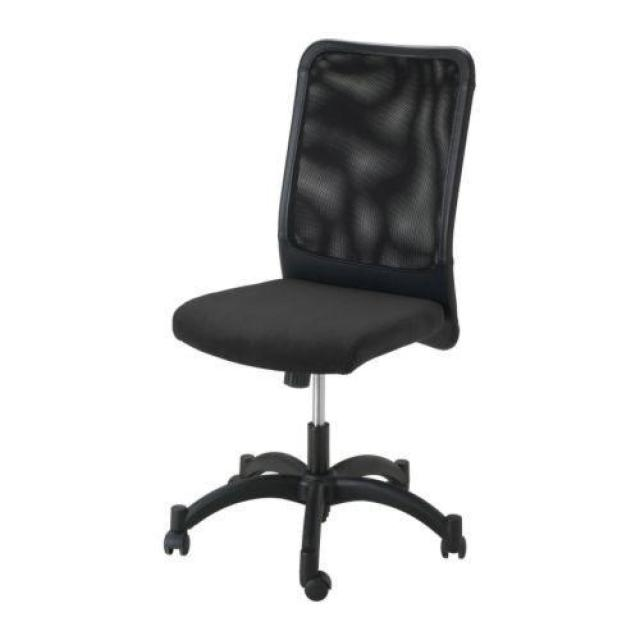swivelchair: (163, 40, 477, 603)
